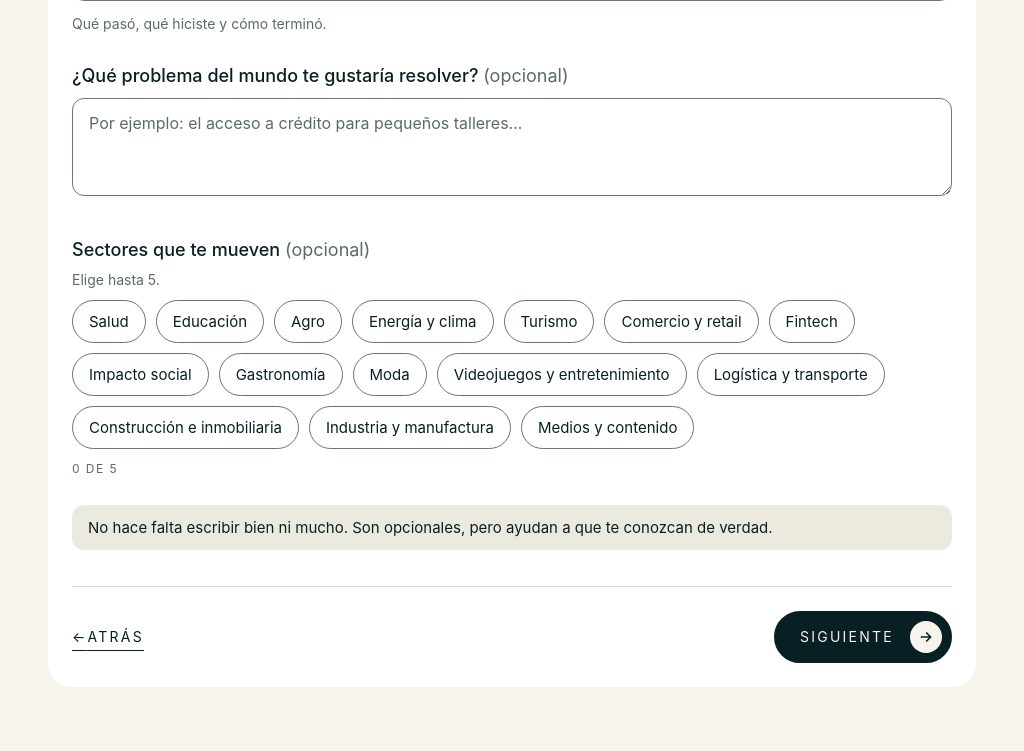
Scenario: HistoriasView: guardar › si la acción se rompe, avisa con el mensaje de fallo
(page scrolled)
Click the button "Siguiente".
click(863, 637)  # box [774,611,952,663]
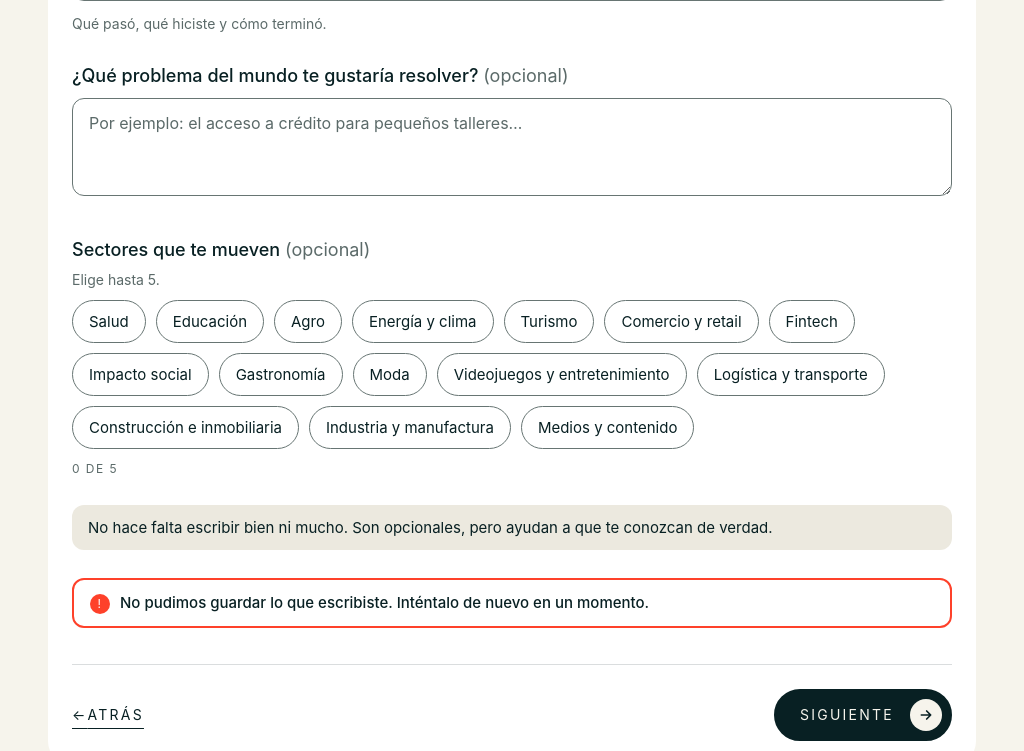
Now the message shows "No pudimos guardar lo que escribiste. Inténtalo de nuevo en un momento.", box [120,593,649,612]
